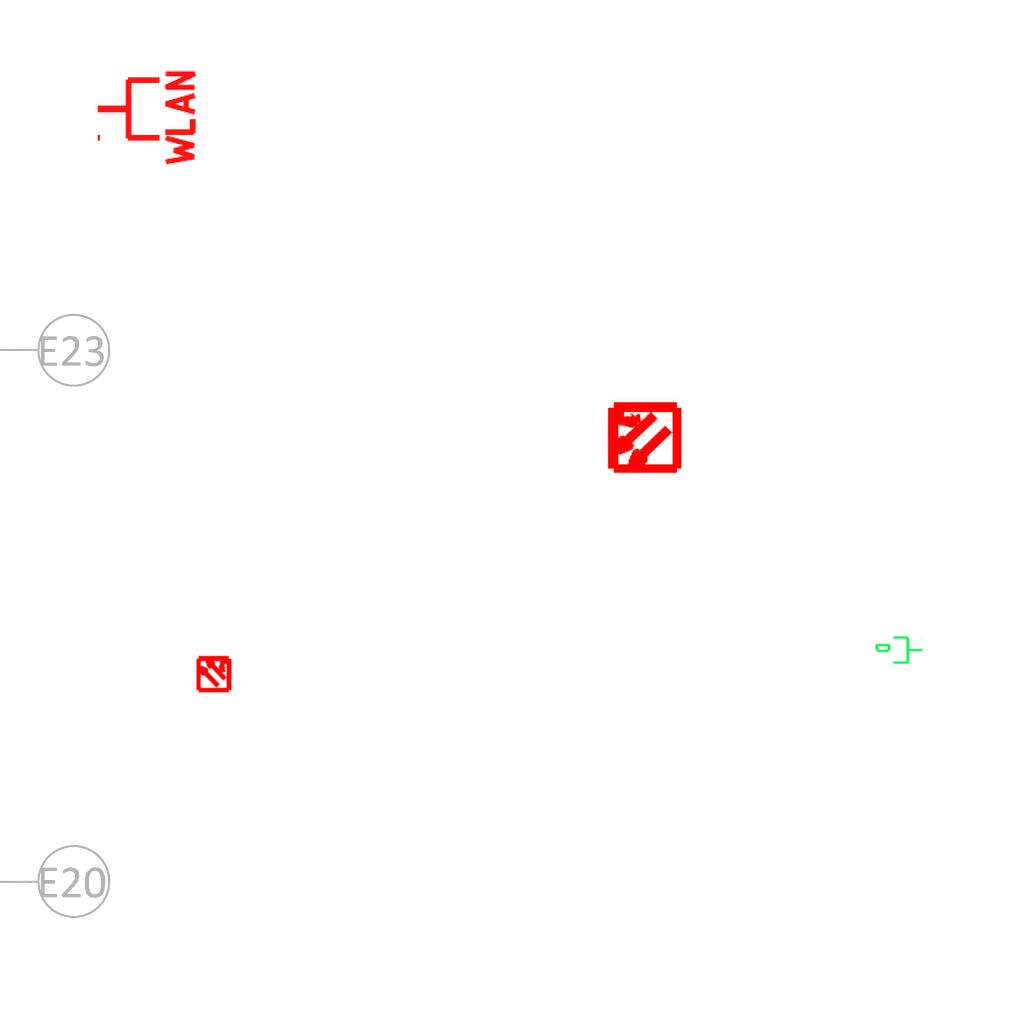Datenanschluss_einfach: (874, 634, 924, 668)
OT_Multisensormelder_(Kombination_RMO_WMD): (586, 381, 699, 494), (186, 645, 242, 701)
WLAN: (93, 66, 198, 170)
